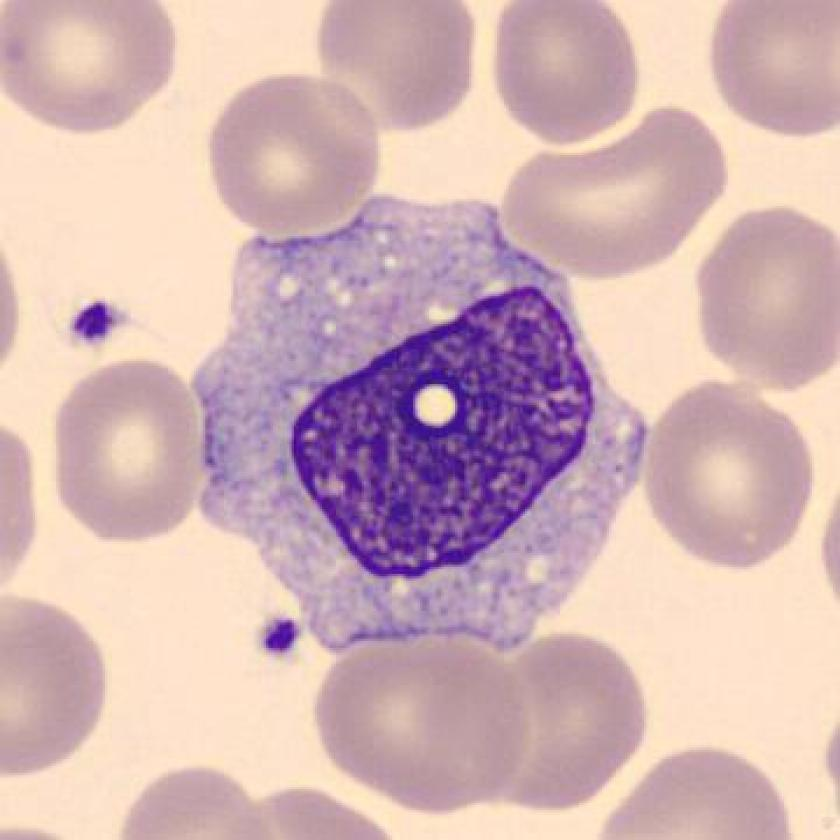monocyte: (176, 189, 668, 668)
